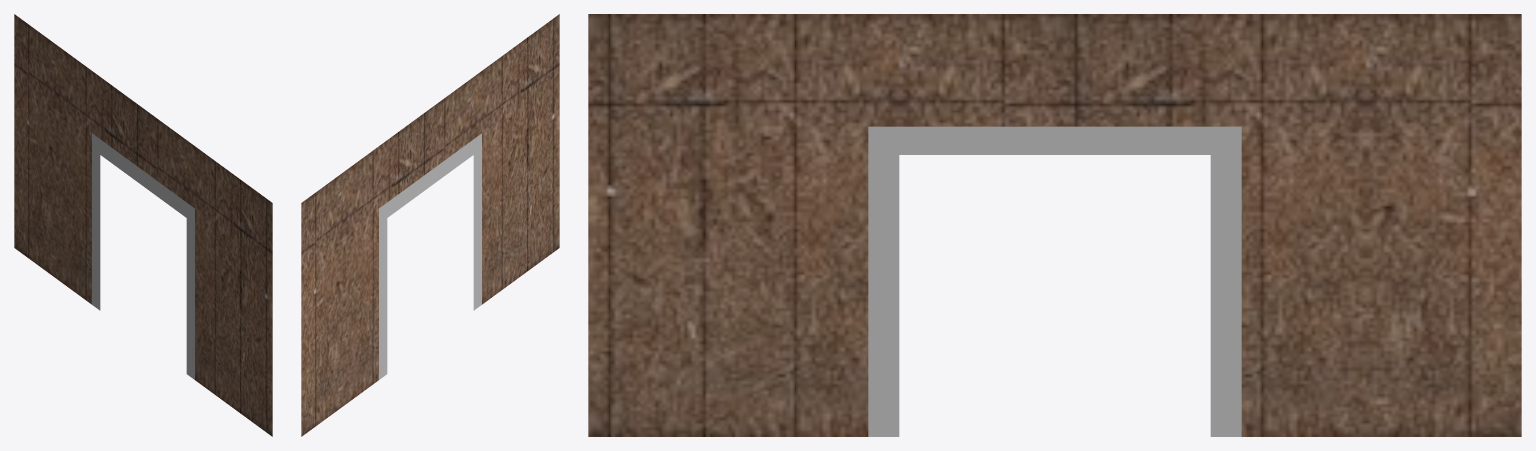
The model's file is interior_wall_1_doorway_2.fbx.
The picture shows the model from 3 angles, left to right: view 1: azimuth 30°, elevation 25°; view 2: azimuth 150°, elevation 25°; view 3: azimuth 270°, elevation 25°; orthographic projection. The views are drawn at different scales.
Visible parts, largest first — view 1: interior_wall_1_doorway_2; view 2: interior_wall_1_doorway_2; view 3: interior_wall_1_doorway_2.
Part boxes in pixels (left/top/right/bottom): interior_wall_1_doorway_2: left=14, top=14, right=272, bottom=436; interior_wall_1_doorway_2: left=301, top=14, right=559, bottom=436; interior_wall_1_doorway_2: left=588, top=14, right=1521, bottom=436.
Size of the model in its own units: 8.39e-06 by 96 by 192.
